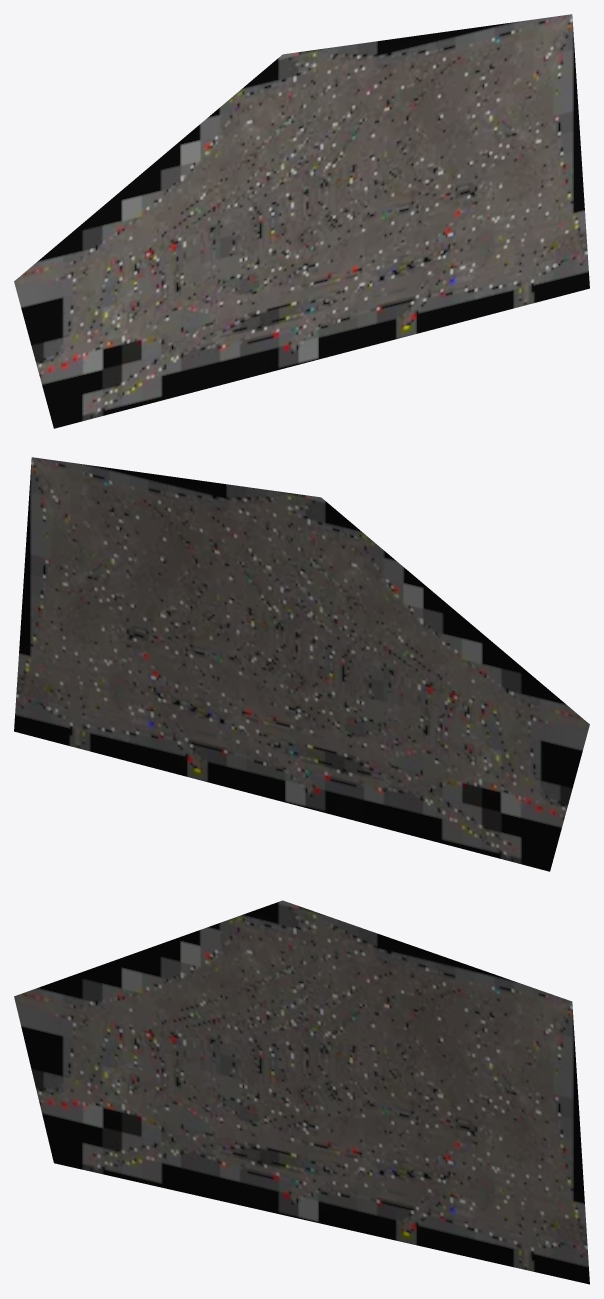
Rendered from NAT_Spider_Web_C-transformed.glb.
The picture shows the model from 3 angles, top to bottom: view 1: azimuth 30°, elevation 25°; view 2: azimuth 150°, elevation 25°; view 3: azimuth 330°, elevation 25°; orthographic projection.
Parts seen in each view (by area): view 1: default; view 2: default; view 3: default.
Boxes of the visible parts, x1,y1,x2,y2 form: default: (14, 14, 589, 428); default: (14, 457, 589, 871); default: (14, 900, 589, 1284).
Bounding box in the file's own units: 3.94 × 2.08 × 0.
1 material, 1 textured.
